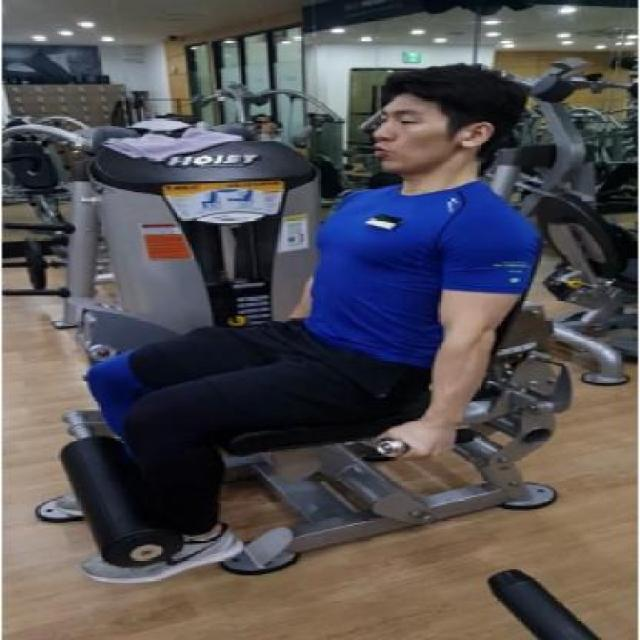leg extension: (30, 60, 632, 594)
